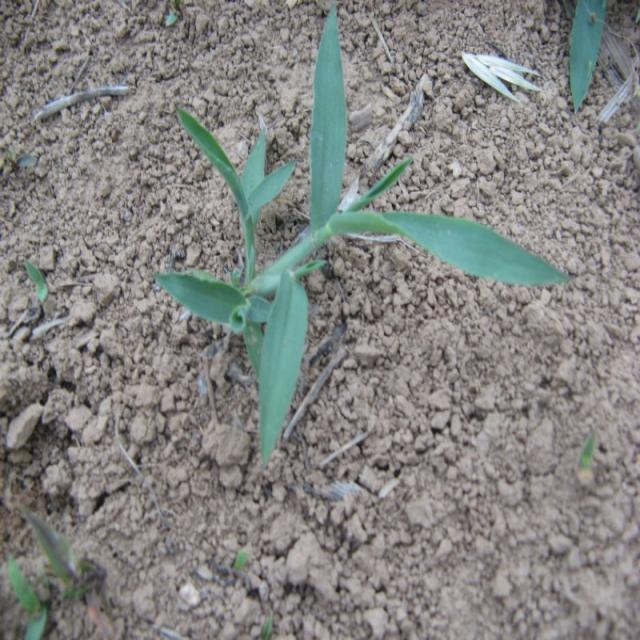bg: (154, 13, 573, 454)
